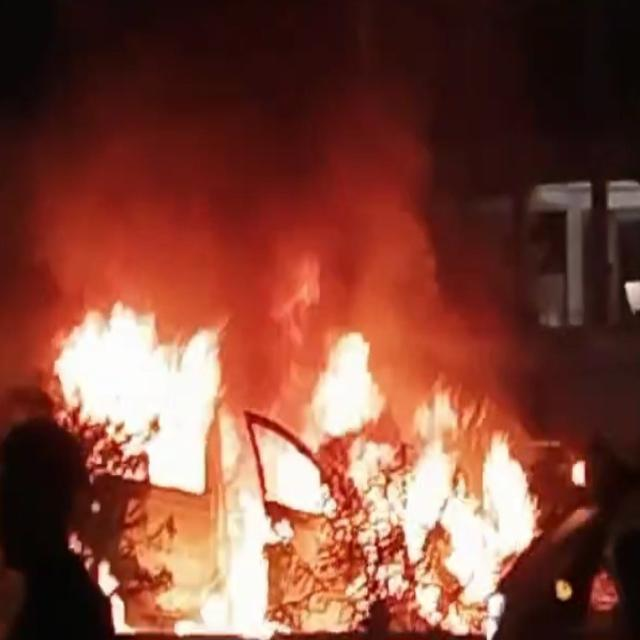fire: (330, 376, 543, 640), (175, 405, 333, 640), (53, 301, 179, 483), (70, 483, 177, 640), (311, 331, 384, 452), (178, 328, 220, 495)
